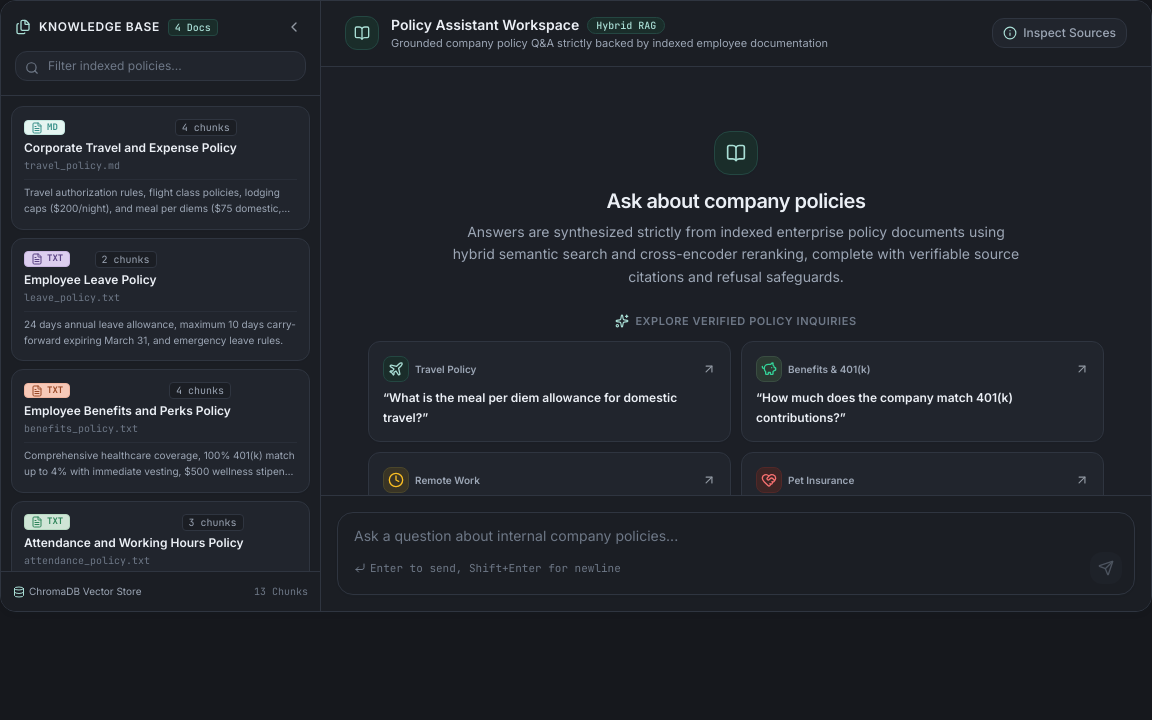
Test: PolicyChatWorkspace › clears conversation when Clear Chat button is clicked
This screenshot has width=1152, height=720.
Type "Sample query" into the text box with placeholder "Ask a question about internal company policies...".
click(736, 550); type("Sample query")  # box x1=338 y1=513 x2=1134 y2=588
Then press Enter
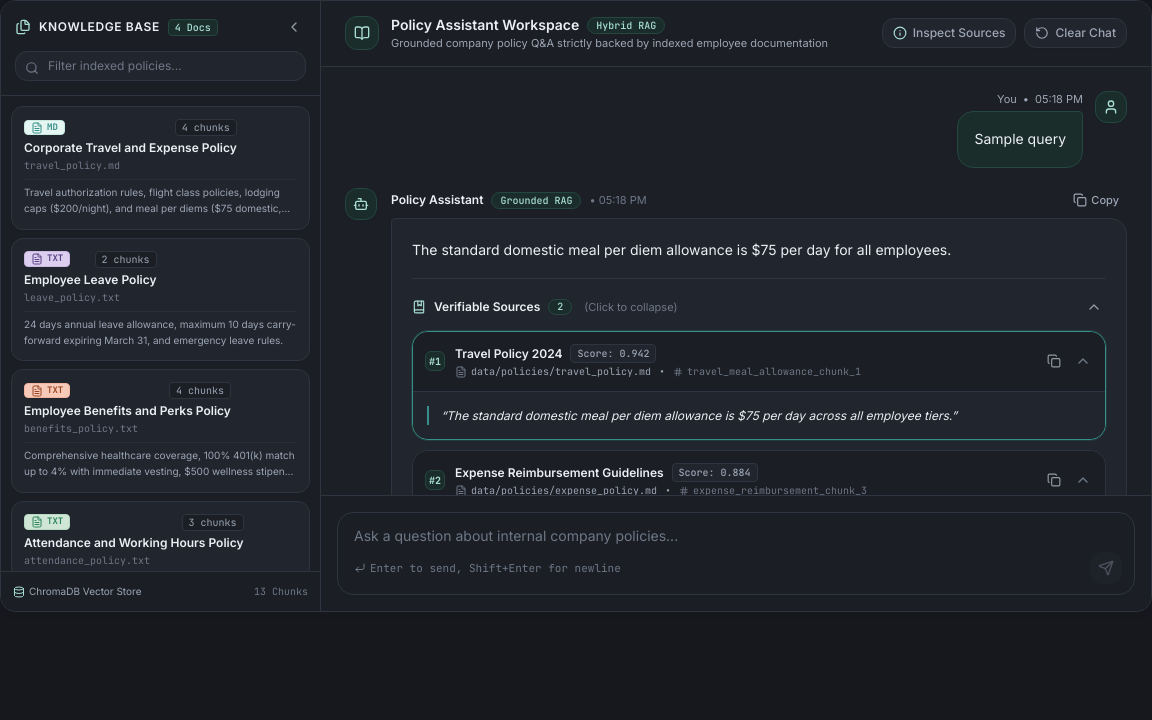
Result: the text "Clear Chat" is shown at x1=1055 y1=25 x2=1116 y2=41
Click the button "Clear Chat".
click(1076, 33)  # box x1=1024 y1=18 x2=1127 y2=48
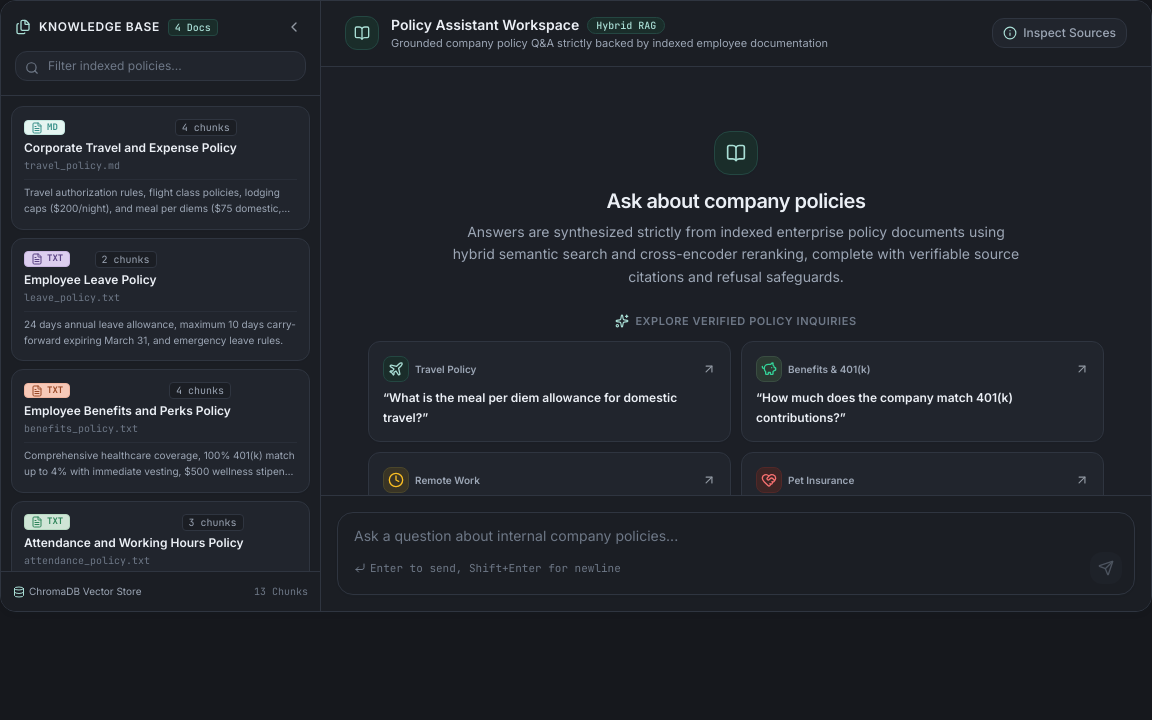
Result: the heading "Ask about company policies" is shown at x1=607 y1=186 x2=865 y2=214
